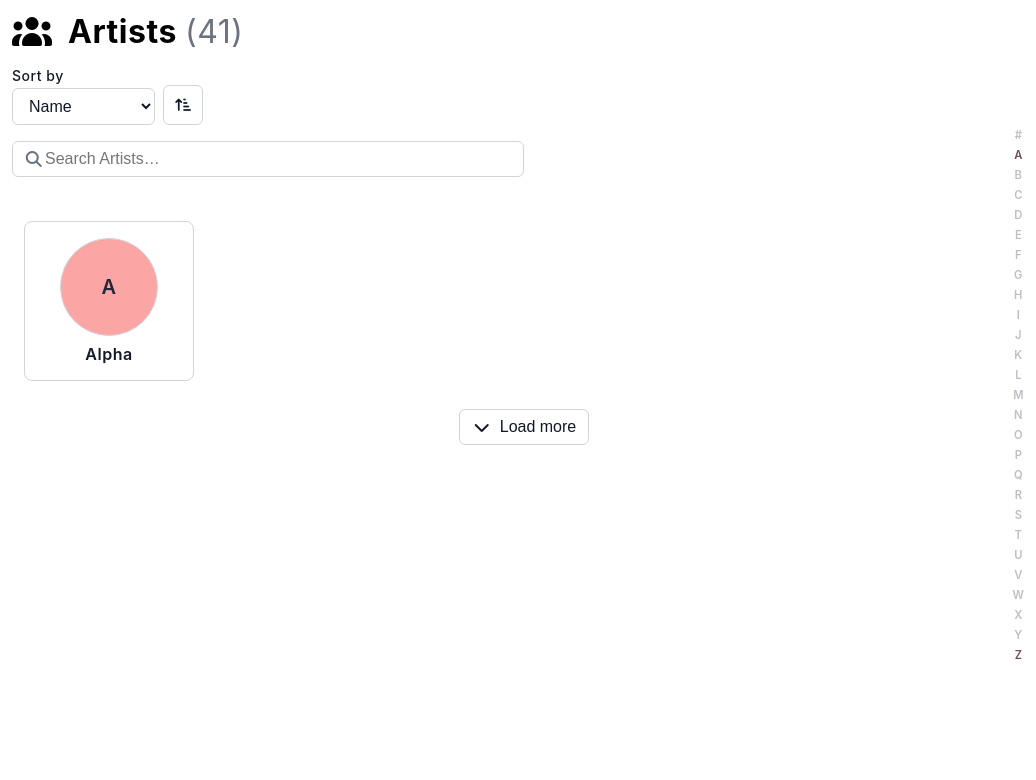
Test: ArtistsView › jumps to a letter's fragment without loading intermediate pages
Click the button "Z": (1018, 656) [1005,646,1032,666]
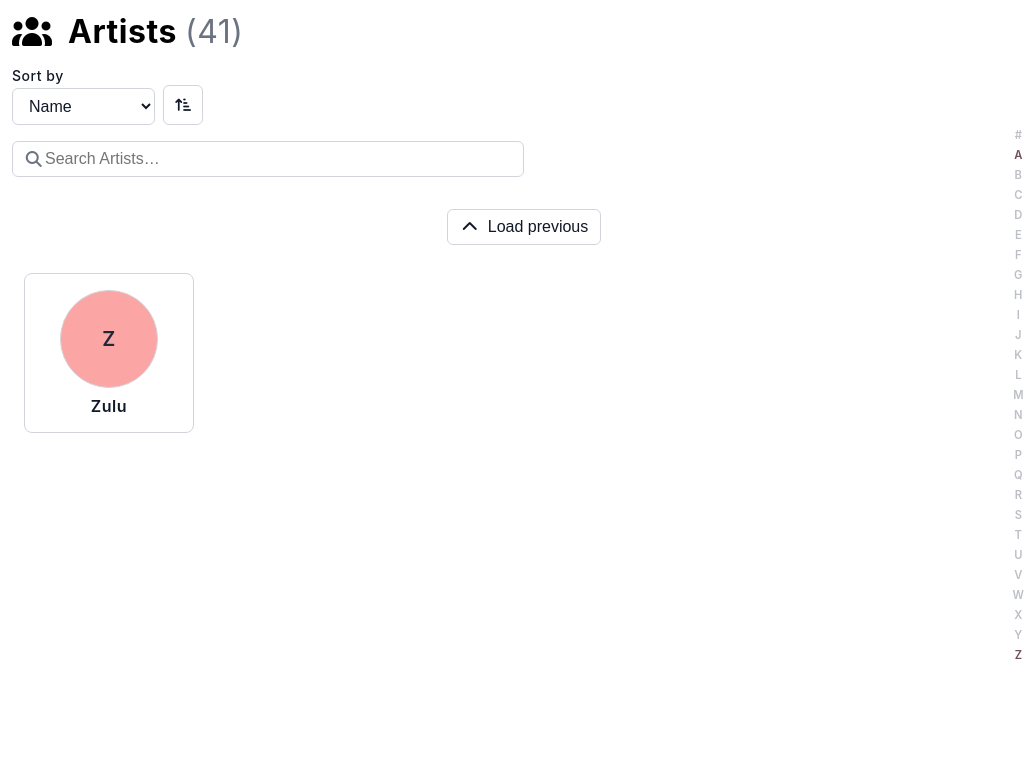
Result: the text "Zulu" is shown at [91,396,127,416]
Result: the text "Alpha" is gone
Click the button "Load previous": (524, 227) [447,209,601,245]
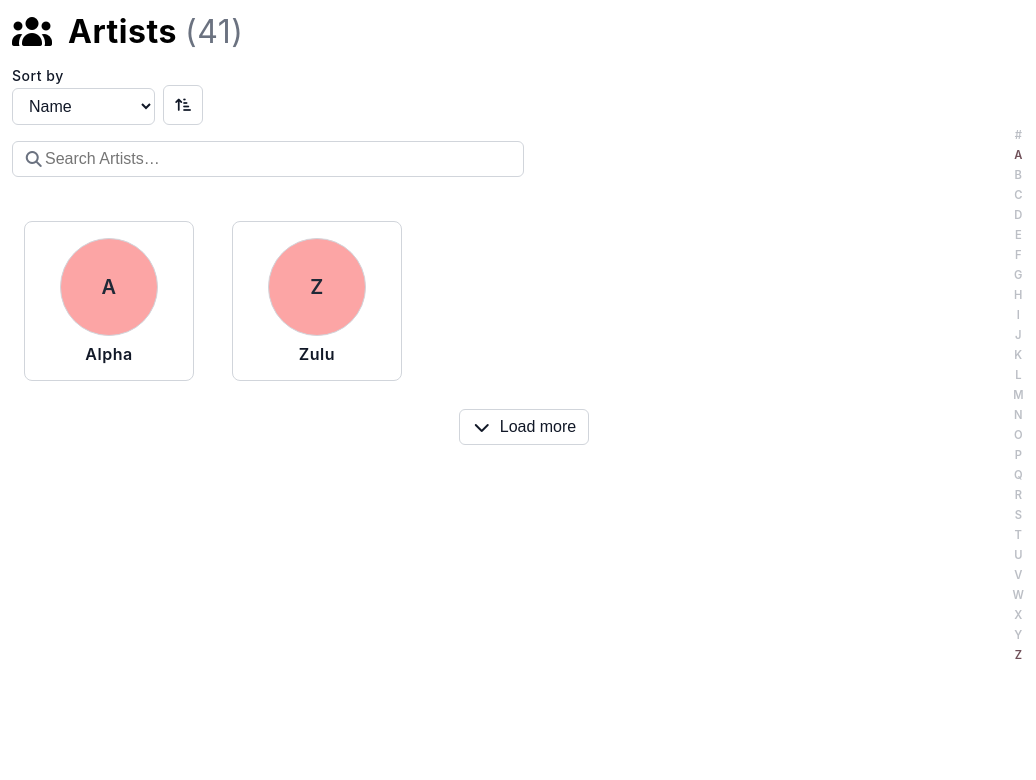
Result: the text "Zulu" is shown at [299,344,335,364]
Result: the text "Alpha" is shown at [85,344,133,364]
